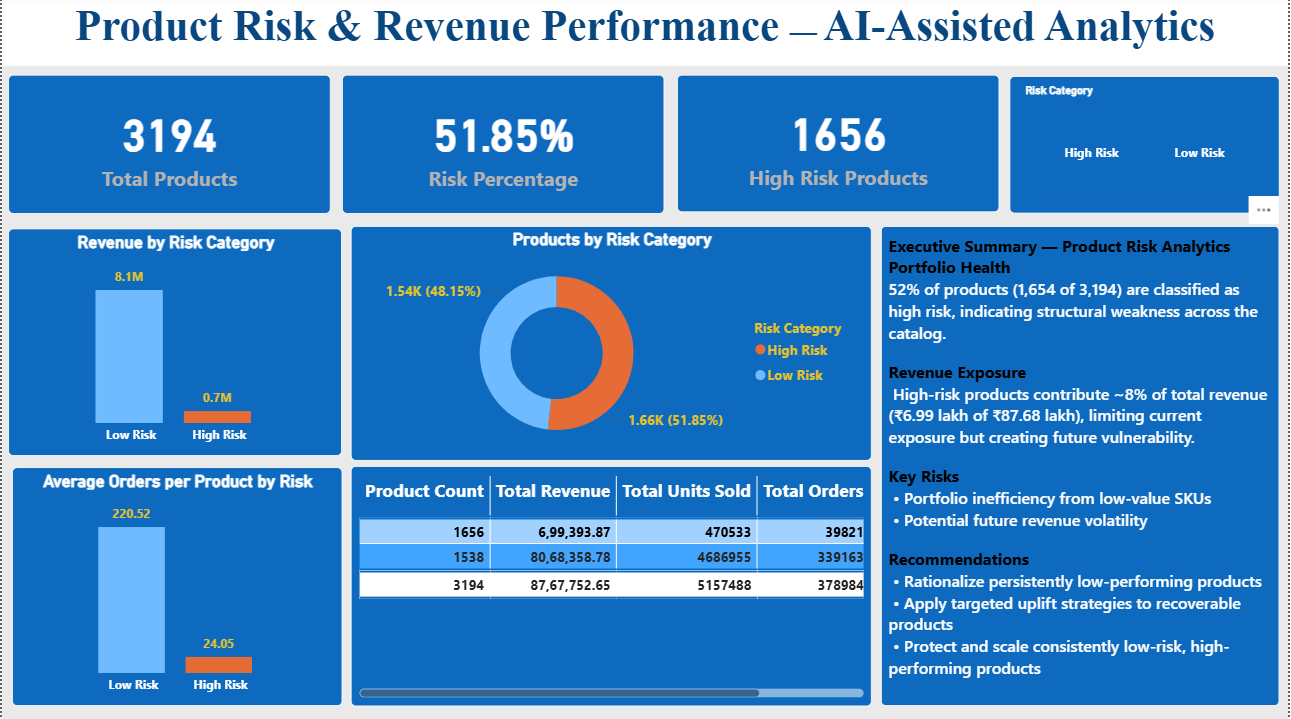

The dashboard page shown, as its layout file describes it:
{"tool":"powerbi","page":{"name":"Product Portfolio Risk Overview","canvas":[1280,720],"ordinal":0},"visuals":[{"type":"textbox","box":[0,0,1280,69.7],"z":0},{"type":"card","fields":{"Values":["product_risk_predictions.Total Products"]},"box":[6.2,78.4,320.9,138.1],"z":1000},{"type":"card","fields":{"Values":["product_risk_predictions.Risk Percentage"]},"box":[338.4,78.4,320.9,138.1],"z":2000},{"type":"card","fields":{"Values":["product_risk_predictions.High Risk Products"]},"box":[671.7,78.4,320.9,136.8],"z":3000},{"type":"donutChart","title":"Products by Risk Category","fields":{"Category":["product_risk_predictions.risk_category"],"Y":["CountNonNull(product_risk_predictions.stockcode)"]},"box":[347.1,228.9,518.7,233.9],"z":4000},{"type":"columnChart","title":"Revenue by Risk Category","fields":{"Category":["product_risk_predictions.risk_category"],"Y":["Sum(product_risk_predictions.total_revenue)"]},"box":[6.2,231.4,332.1,226.4],"z":5000},{"type":"columnChart","title":"Average Orders per Product by Risk","fields":{"Y":["Avg(product_risk_predictions.order_count)"],"Category":["product_risk_predictions.risk_category"]},"box":[10,469,328.4,237.6],"z":6000},{"type":"tableEx","title":"Product Risk Details","fields":{"Values":["Count(product_risk_predictions.stockcode)","Sum(product_risk_predictions.total_revenue)","Sum(product_risk_predictions.total_units)","Sum(product_risk_predictions.order_count)","product_risk_predictions.risk_category"]},"box":[347.1,467.7,518.7,238.8],"z":7000},{"type":"slicer","fields":{"Values":["product_risk_predictions.risk_category"]},"box":[1002.6,79.6,268.7,136.8],"z":8000},{"type":"textbox","box":[874.5,228.9,396.8,477.7],"z":9000}]}

Visuals, with their boxes in screenshot pixels (x1, y1, x2, y2), scaled from the page's 1280x720 canvas onto the 1291x719 screenshot:
textbox: rect(0, 0, 1290, 70)
card - product_risk_predictions.Total Products: rect(6, 78, 330, 216)
card - product_risk_predictions.Risk Percentage: rect(341, 78, 665, 216)
card - product_risk_predictions.High Risk Products: rect(677, 78, 1001, 215)
"Products by Risk Category" donutChart: rect(350, 229, 873, 462)
"Revenue by Risk Category" columnChart: rect(6, 231, 341, 457)
"Average Orders per Product by Risk" columnChart: rect(10, 468, 341, 706)
"Product Risk Details" tableEx: rect(350, 467, 873, 706)
slicer - product_risk_predictions.risk_category: rect(1011, 79, 1282, 216)
textbox: rect(882, 229, 1282, 706)
